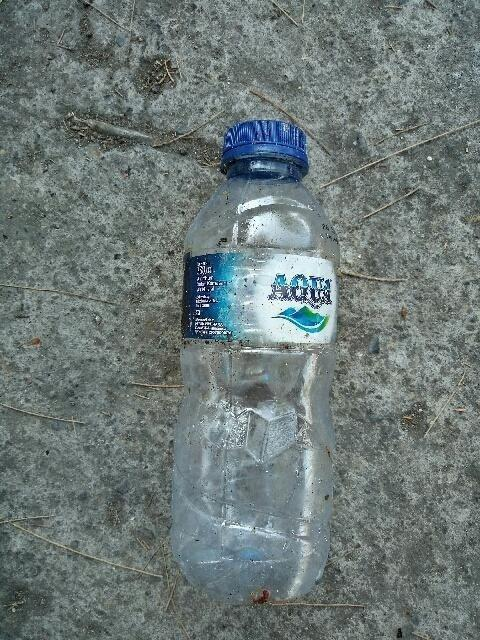bottle-plastic: (163, 116, 347, 611)
